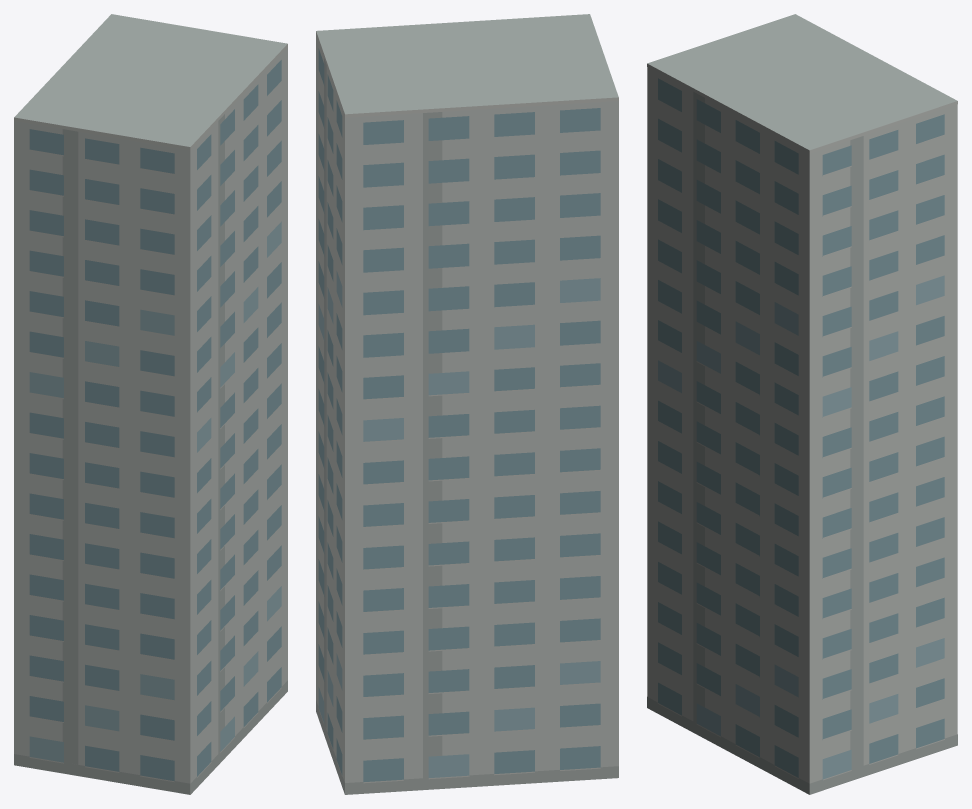
Rendered from residential-7f3e8383-486b-4f15-b309-2b58b3caf88a.glb.
The picture shows the model from 3 angles, left to right: view 1: azimuth 30°, elevation 25°; view 2: azimuth 150°, elevation 25°; view 3: azimuth 270°, elevation 25°; orthographic projection. The views are drawn at different scales.
Parts seen in each view (by area): view 1: residential-7f3e8383-486b-4f15-b309-2b58b3caf88a.tmp; view 2: residential-7f3e8383-486b-4f15-b309-2b58b3caf88a.tmp; view 3: residential-7f3e8383-486b-4f15-b309-2b58b3caf88a.tmp.
Part boxes in pixels (left/top/right/bottom): residential-7f3e8383-486b-4f15-b309-2b58b3caf88a.tmp: left=14, top=14, right=287, bottom=794; residential-7f3e8383-486b-4f15-b309-2b58b3caf88a.tmp: left=316, top=14, right=618, bottom=794; residential-7f3e8383-486b-4f15-b309-2b58b3caf88a.tmp: left=647, top=14, right=957, bottom=794.
Bounding box in the file's own units: 20.89 × 46 × 20.1.
